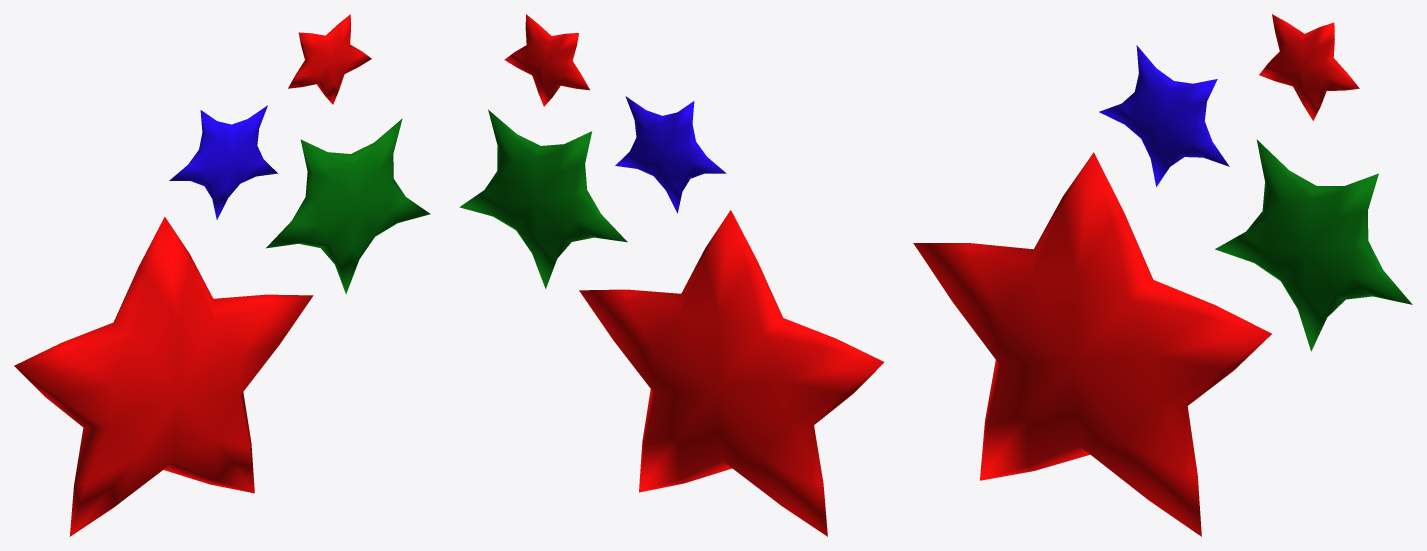
File: Stars.FBX
3 renders of one model, left to right at view 1: azimuth 30°, elevation 25°; view 2: azimuth 150°, elevation 25°; view 3: azimuth 330°, elevation 25°, orthographic. The views are drawn at different scales.
Parts seen in each view (by area): view 1: Cylinder012, Group002, Cylinder013; view 2: Cylinder012, Group002, Cylinder013; view 3: Cylinder012, Group002, Cylinder013.
Boxes of the visible parts, <box> form: Cylinder012: <box>14,216,313,536</box>; Group002: <box>169,105,430,294</box>; Cylinder013: <box>288,14,371,104</box>; Cylinder012: <box>579,210,884,536</box>; Group002: <box>459,96,726,288</box>; Cylinder013: <box>504,14,589,106</box>; Cylinder012: <box>913,152,1271,536</box>; Group002: <box>1099,45,1412,351</box>; Cylinder013: <box>1259,14,1359,120</box>.
Bounding box in the file's own units: 60.28 × 62.04 × 7.98.
